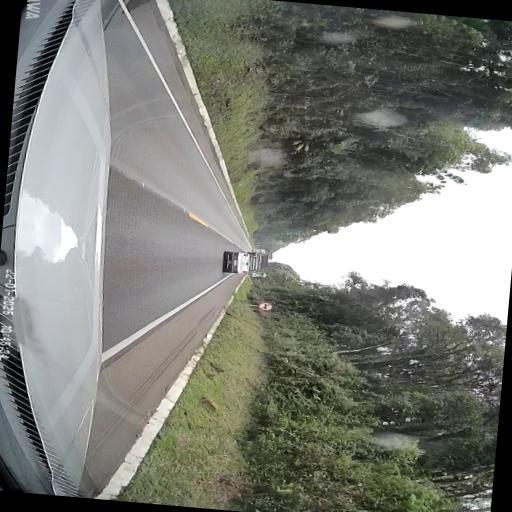R-7: (257, 302, 272, 311)
